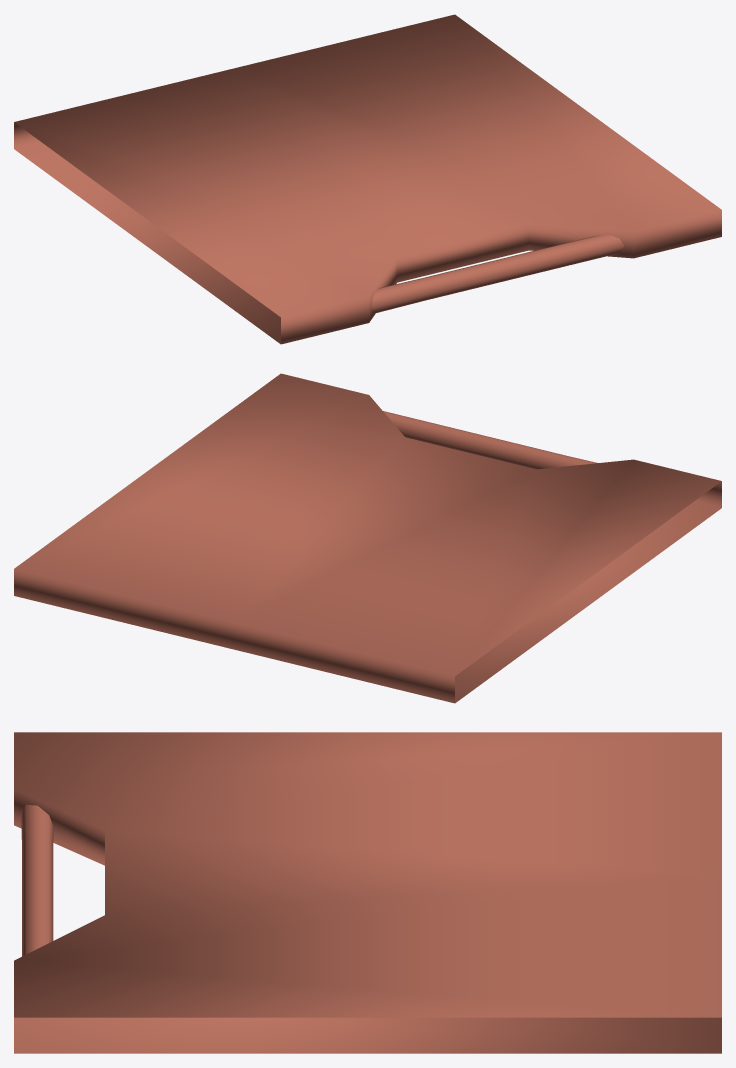
Rendered from bidge_01.fbx.
3 renders of one model, top to bottom at view 1: azimuth 30°, elevation 25°; view 2: azimuth 150°, elevation 25°; view 3: azimuth 270°, elevation 25°, orthographic. The views are drawn at different scales.
Visible parts, largest first — view 1: bridge_tile_middle2; view 2: bridge_tile_middle2; view 3: bridge_tile_middle2.
Boxes of the visible parts, x1=… form: bridge_tile_middle2: x1=14, y1=14, x2=721, y2=344; bridge_tile_middle2: x1=14, y1=373, x2=721, y2=703; bridge_tile_middle2: x1=14, y1=732, x2=721, y2=1053.
Bounding box in the file's own units: 1330 × 77.98 × 1395.
